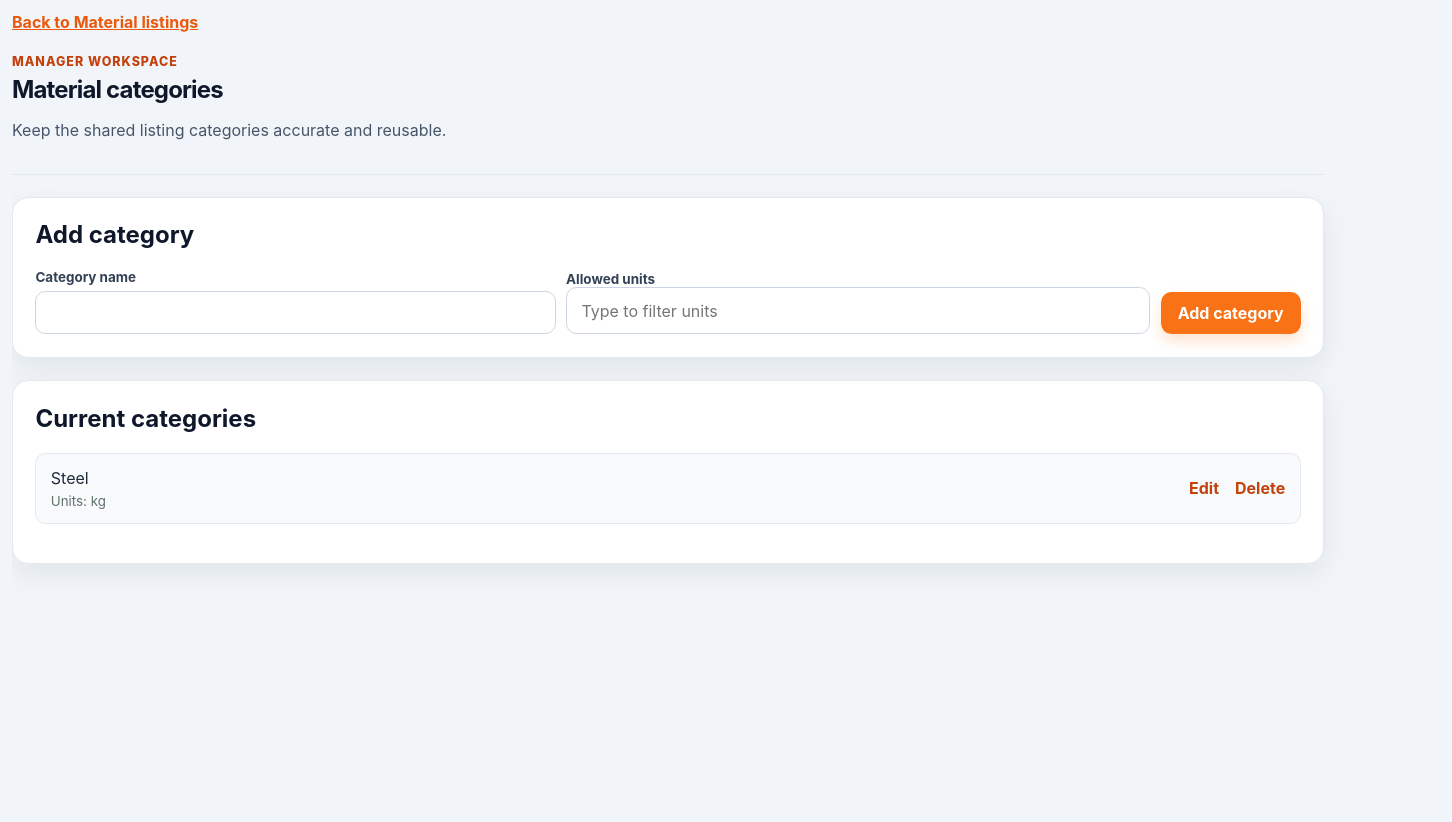
manager Material UI › loads assigned units for editing, filters options and saves multiple catalog units
Click the button "Edit": (1204, 488) [1189,478,1219,498]
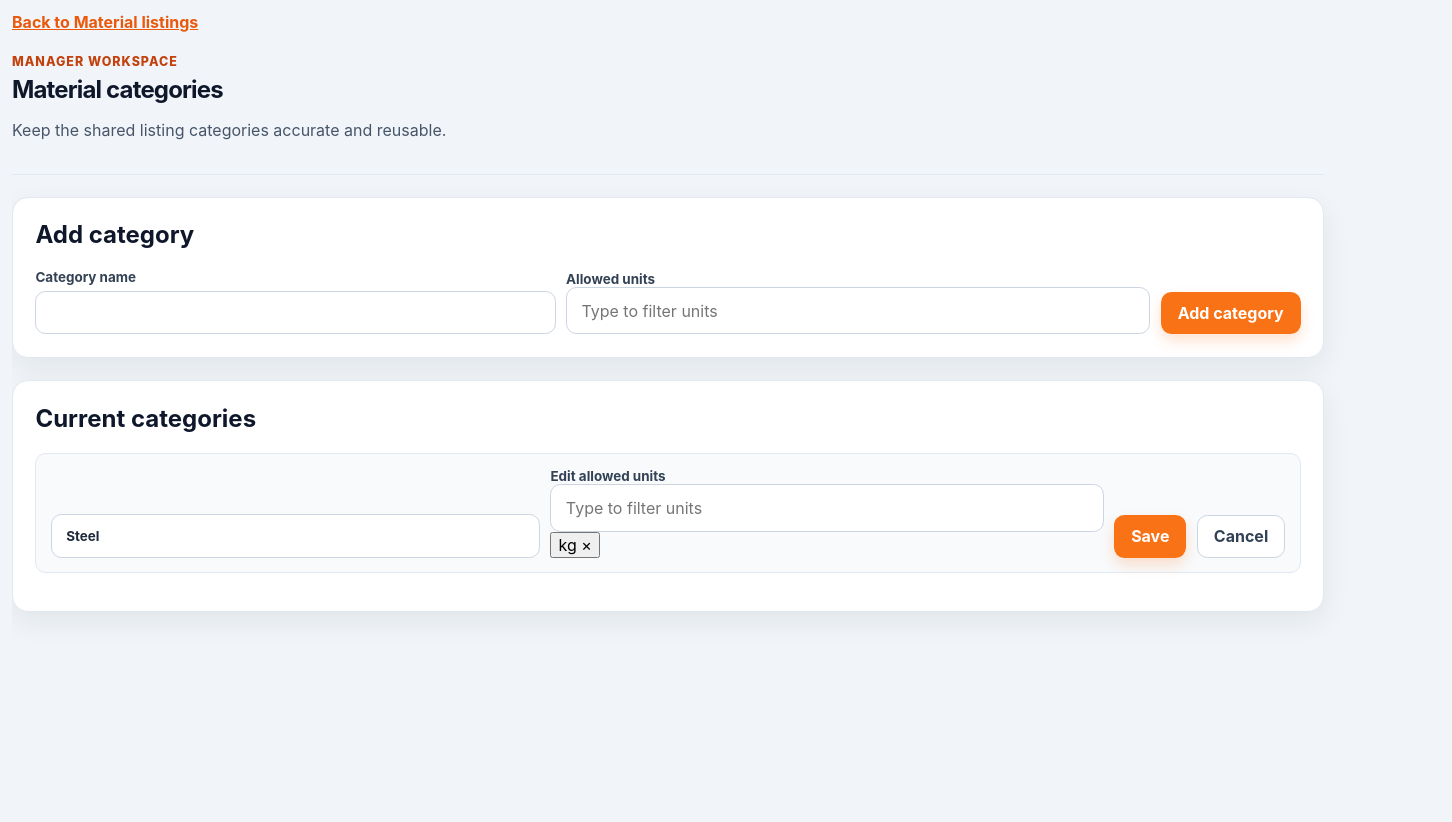
Expected: the button with aria-label "Remove kg" is shown, [550,532,600,558]
In the dropdown labelled "Edit allowed units": (827, 508) [550,484,1104,532], type "bo"
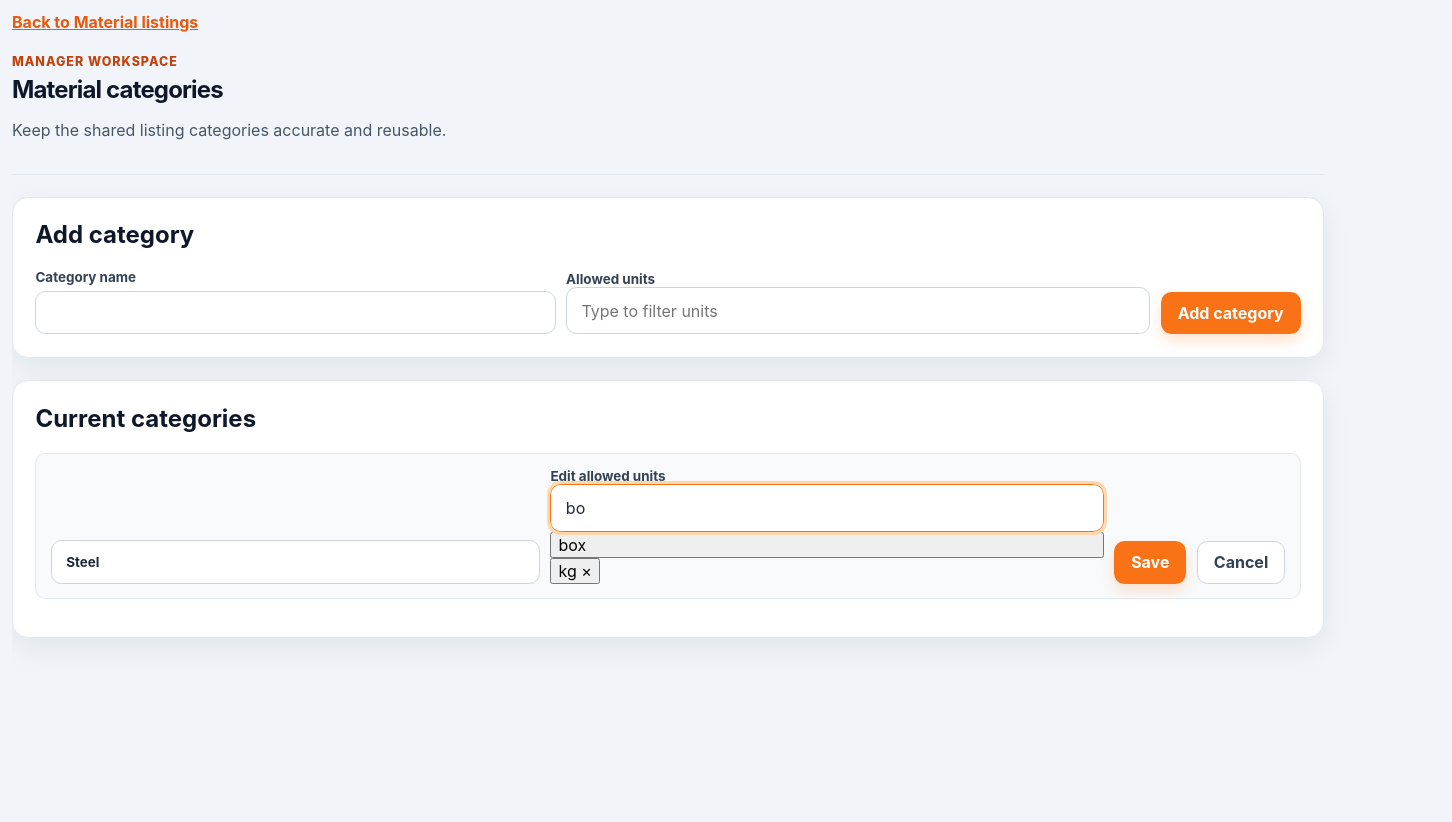
Press Enter
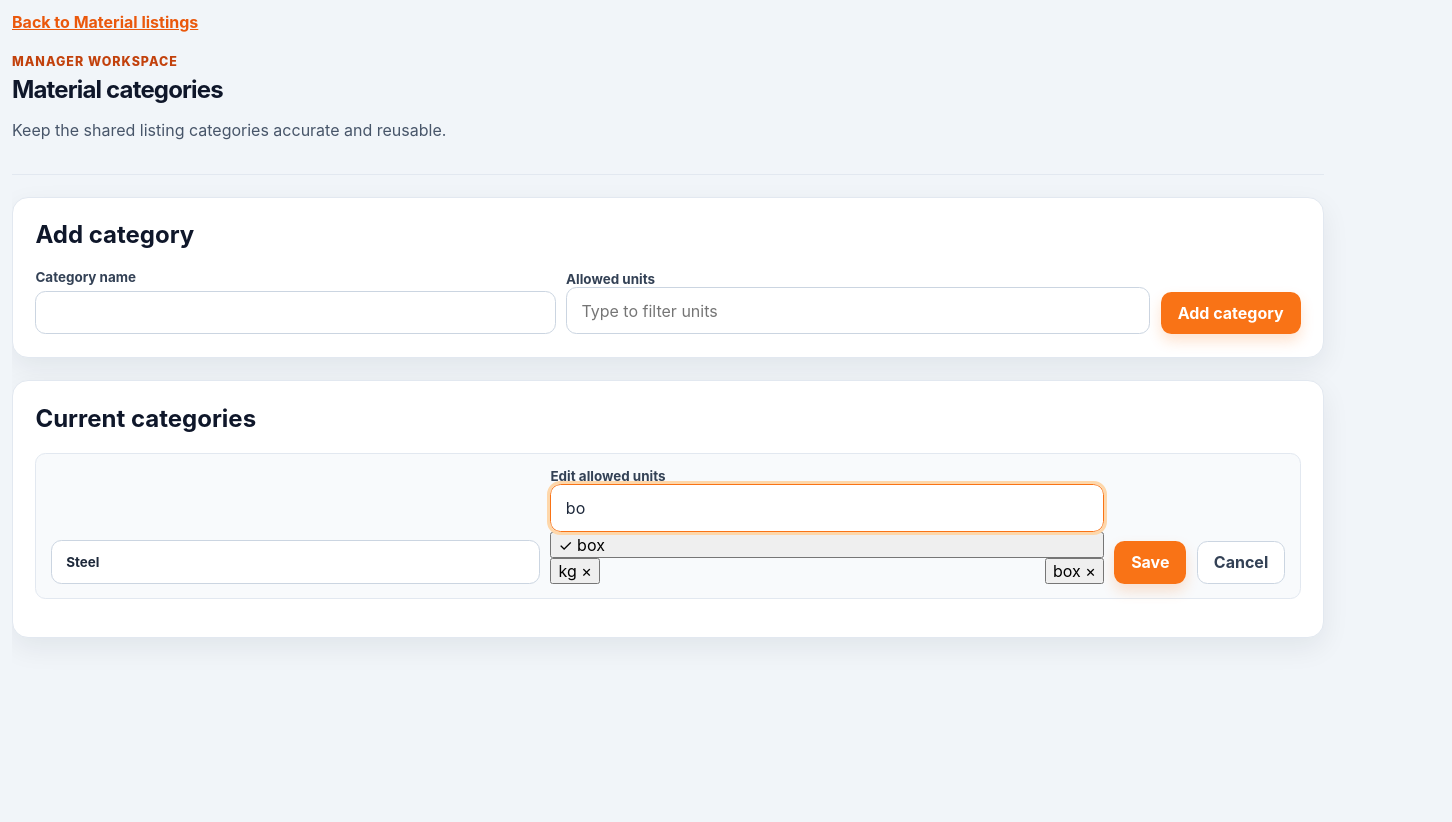
Click the button "Save": (1150, 562) [1114,541,1186,584]
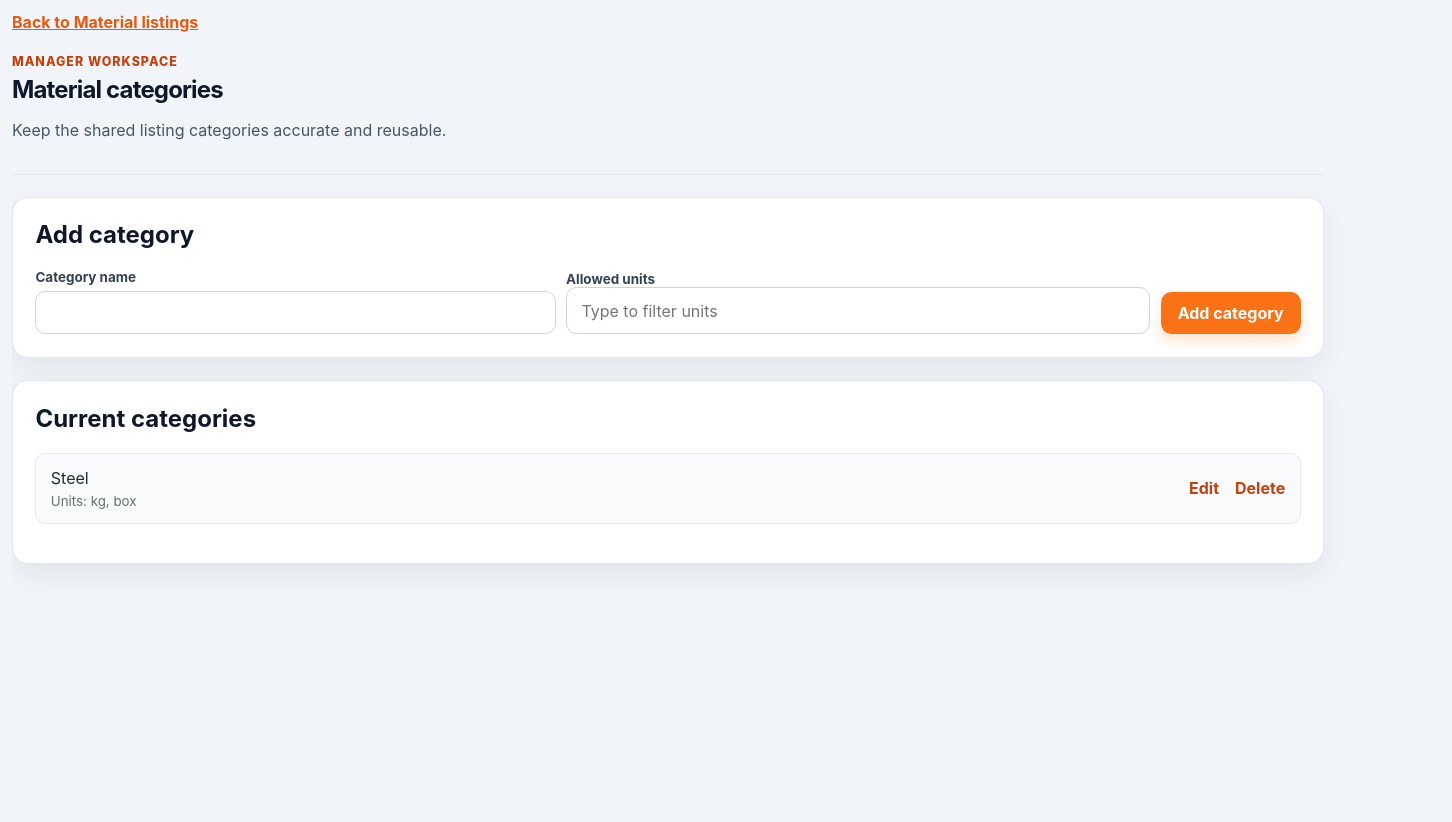
Expected: the text "Units: kg, box" is shown, [51,493,137,509]
